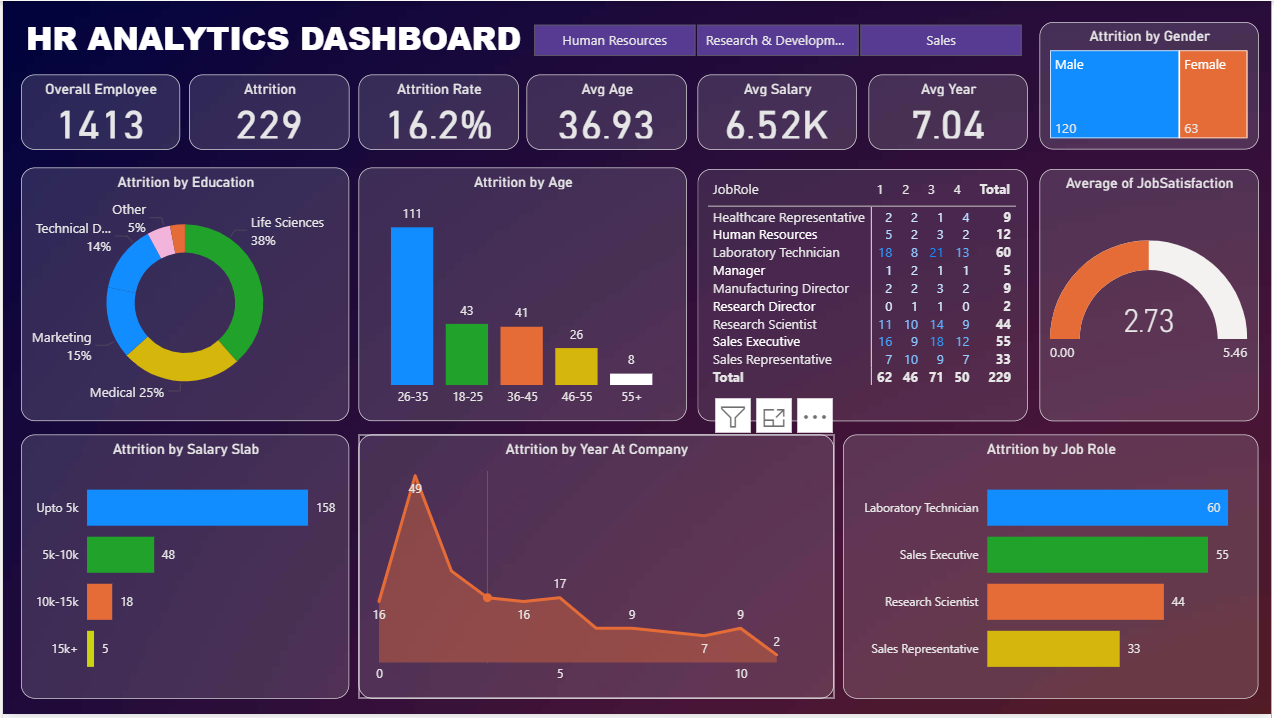

This screenshot's page, from the dashboard's own definition file:
{"tool":"powerbi","page":{"name":"Page 1","canvas":[1280,720],"ordinal":0},"visuals":[{"type":"card","title":"Overall Employee","fields":{"Values":["Count(HR_Analytics.EmpID)"]},"box":[18.2,74.2,160.5,75.7],"z":0},{"type":"card","title":"Attrition Rate","fields":{"Values":["HR_Analytics.AttritionRate"]},"box":[358.9,74.2,162,75.7],"z":1000},{"type":"card","title":"Attrition","fields":{"Values":["Sum(HR_Analytics.AttritionCount)"]},"box":[187.8,74.2,162,75.7],"z":2000},{"type":"card","title":"Avg Age","fields":{"Values":["Avg(HR_Analytics.Age)"]},"box":[528.5,74.2,162,75.7],"z":3000},{"type":"card","title":"Avg Salary","fields":{"Values":["Avg(HR_Analytics.MonthlyIncome)"]},"box":[701.1,74.2,160.5,75.7],"z":4000},{"type":"card","title":"Avg Year","fields":{"Values":["Avg(HR_Analytics.YearsAtCompany)"]},"box":[873.7,74.2,160.5,75.7],"z":5000},{"type":"donutChart","title":"Attrition by Education","fields":{"Category":["HR_Analytics.EducationField"],"Y":["Sum(HR_Analytics.AttritionCount)"]},"box":[18.2,168.1,331.6,255.9],"z":6000},{"type":"columnChart","title":"Attrition by Age","fields":{"Category":["HR_Analytics.AgeGroup"],"Y":["Sum(HR_Analytics.AttritionCount)"]},"box":[358.9,168.1,331.6,255.9],"z":7000},{"type":"pivotTable","fields":{"Rows":["HR_Analytics.JobRole"],"Columns":["HR_Analytics.JobSatisfaction"],"Values":["Sum(HR_Analytics.AttritionCount)"]},"box":[701.1,169.6,333.1,254.4],"z":8000},{"type":"barChart","title":"Attrition by Salary Slab","fields":{"Category":["HR_Analytics.SalarySlab"],"Y":["Sum(HR_Analytics.AttritionCount)"]},"box":[18.2,437.6,331.6,266.5],"z":9000},{"type":"barChart","title":"Attrition by Job Role","fields":{"Category":["HR_Analytics.JobRole"],"Y":["Sum(HR_Analytics.AttritionCount)"]},"box":[848,437.6,419.4,266.5],"z":10000},{"type":"areaChart","title":"Attrition by Year At Company","fields":{"Category":["HR_Analytics.YearsAtCompany"],"Y":["Sum(HR_Analytics.AttritionCount)"]},"box":[358.9,437.6,480,266.5],"z":11000},{"type":"treemap","title":"Attrition by Gender","fields":{"Group":["HR_Analytics.Gender"],"Values":["Sum(HR_Analytics.AttritionCount)"]},"box":[1046.3,21.2,221.1,128.7],"z":12000},{"type":"slicer","fields":{"Values":["HR_Analytics.Department"]},"box":[510.3,16.7,542.1,45.4],"z":13000},{"type":"textbox","box":[18.2,9.1,525.4,59.1],"z":14000},{"type":"gauge","fields":{"Y":["Avg(HR_Analytics.JobSatisfaction)"]},"box":[1046.3,169.6,221.1,254.4],"z":15000}]}

Visuals, with their boxes in screenshot pixels (x1, y1, x2, y2), scaled from the page's 1280x720 canvas onto the 1274x718 screenshot:
"Overall Employee" card: region(18, 74, 178, 149)
"Attrition Rate" card: region(357, 74, 518, 149)
"Attrition" card: region(187, 74, 348, 149)
"Avg Age" card: region(526, 74, 687, 149)
"Avg Salary" card: region(698, 74, 858, 149)
"Avg Year" card: region(870, 74, 1029, 149)
"Attrition by Education" donutChart: region(18, 168, 348, 423)
"Attrition by Age" columnChart: region(357, 168, 687, 423)
pivotTable - HR_Analytics.JobRole x HR_Analytics.JobSatisfaction: region(698, 169, 1029, 423)
"Attrition by Salary Slab" barChart: region(18, 436, 348, 702)
"Attrition by Job Role" barChart: region(844, 436, 1261, 702)
"Attrition by Year At Company" areaChart: region(357, 436, 835, 702)
"Attrition by Gender" treemap: region(1041, 21, 1261, 149)
slicer - HR_Analytics.Department: region(508, 17, 1047, 62)
textbox: region(18, 9, 541, 68)
gauge - Avg(HR_Analytics.JobSatisfaction): region(1041, 169, 1261, 423)
